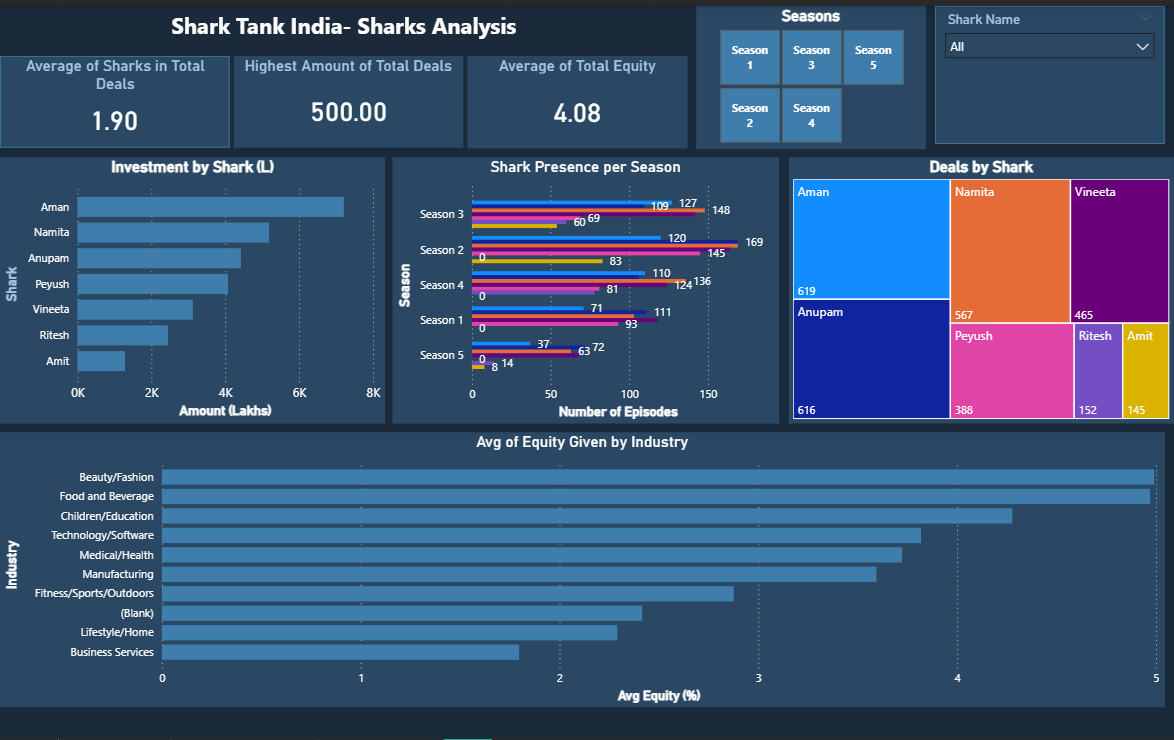

The page's visual inventory and layout, read from the dashboard file:
{"tool":"powerbi","page":{"name":"Shark Analysis","canvas":[1280,800],"ordinal":1},"visuals":[{"type":"card","title":"Average of Sharks in Total Deals","fields":{"Values":["Avg(Sheet1.Number of Sharks in Deal)"]},"box":[0,55,250,100],"z":0},{"type":"card","title":"Highest Amount of Total Deals","fields":{"Values":["Max(Sheet1.Total Deal Amount)"]},"box":[255,55,250,100],"z":1000},{"type":"card","title":"Average of Total Equity","fields":{"Values":["Avg(Sheet1.Total Deal Equity)"]},"box":[509.9,54.5,239.9,100.9],"z":2000},{"type":"clusteredBarChart","title":"Shark Presence per Season","fields":{"Category":["shark_tank_clean.Season Label"],"Y":["Sum(shark_tank_clean.Vineeta Present)","Sum(shark_tank_clean.Namita Present)","Sum(shark_tank_clean.Aman Present)","Sum(shark_tank_clean.Anupam Present)","Sum(shark_tank_clean.Peyush Present)","Sum(shark_tank_clean.Ritesh Present)","Sum(shark_tank_clean.Amit Present)"]},"box":[428.1,165,421.3,290.4],"z":3000},{"type":"slicer","title":"Seasons","fields":{"Values":["shark_tank_clean.Season Label"]},"box":[760,0,250,155.7],"z":4000},{"type":"clusteredBarChart","title":"Avg of Equity Given by Industry","fields":{"Category":["shark_tank_clean.Industry"],"Y":["Avg(shark_tank_clean.Total Deal Equity)"]},"box":[0,465,1270,300],"z":5000},{"type":"textbox","box":[0,0,750,50],"z":6000},{"type":"treemap","title":"Deals by Shark","fields":{"Group":["Sheet1.Shark Name"],"Values":["CountNonNull(Sheet1.Startup Name)"]},"box":[860.3,165,419.9,290.4],"z":7000},{"type":"slicer","fields":{"Values":["Sheet1.Shark Name"]},"box":[1020,0,250,150],"z":8000},{"type":"clusteredBarChart","title":"Investment by Shark (L)","fields":{"Category":["Sheet1.Shark Name"],"Y":["Sum(Sheet1.Investment Amount)"]},"box":[0,165,420,290],"z":9000}]}

Visuals, with their boxes in screenshot pixels (x1, y1, x2, y2), scaled from the page's 1280x800 canvas onto the 1174x740 screenshot:
"Average of Sharks in Total Deals" card: box(0, 51, 229, 143)
"Highest Amount of Total Deals" card: box(234, 51, 463, 143)
"Average of Total Equity" card: box(468, 50, 688, 144)
"Shark Presence per Season" clusteredBarChart: box(393, 153, 779, 421)
"Seasons" slicer: box(697, 0, 926, 144)
"Avg of Equity Given by Industry" clusteredBarChart: box(0, 430, 1165, 708)
textbox: box(0, 0, 688, 46)
"Deals by Shark" treemap: box(789, 153, 1173, 421)
slicer - Sheet1.Shark Name: box(936, 0, 1165, 139)
"Investment by Shark (L)" clusteredBarChart: box(0, 153, 385, 421)
